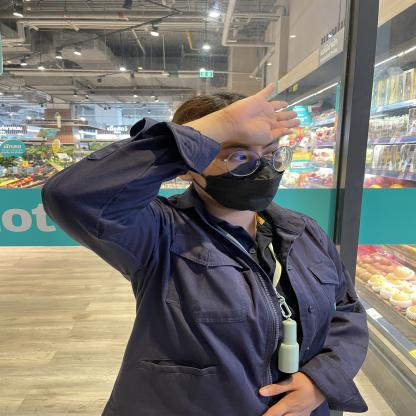Sick: (94, 61, 332, 165)
